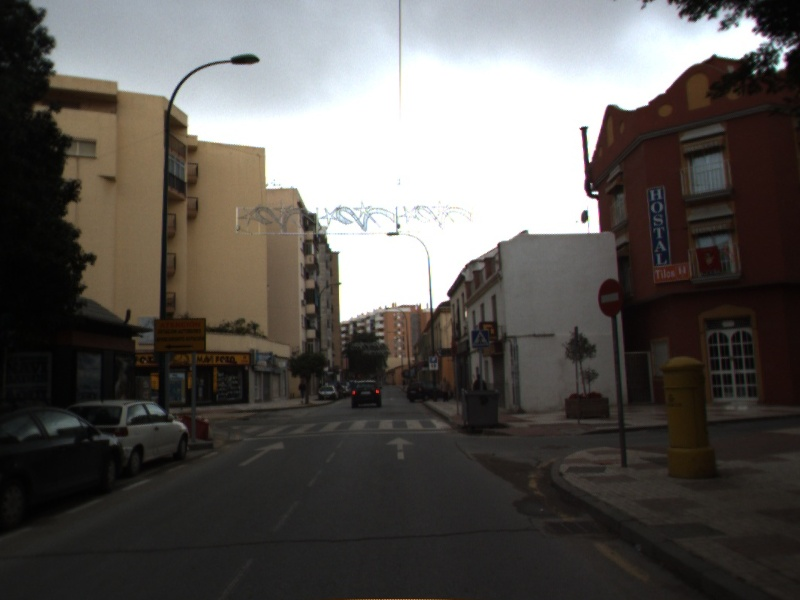STRAIGHT: (235, 439, 286, 468), (383, 435, 416, 462)
